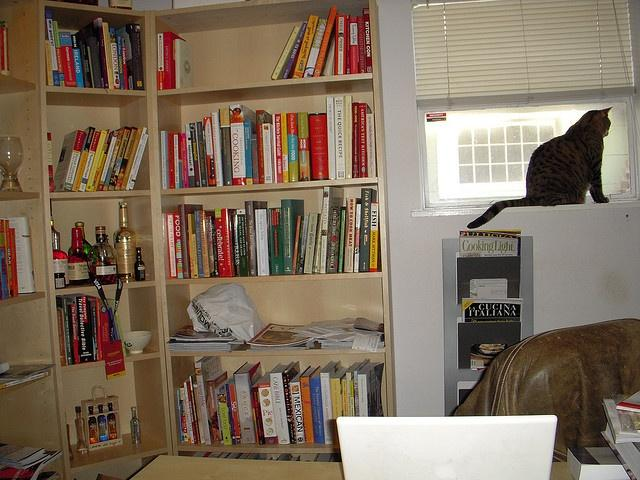Rak: (149, 0, 392, 454), (39, 0, 172, 479), (0, 0, 66, 478)
